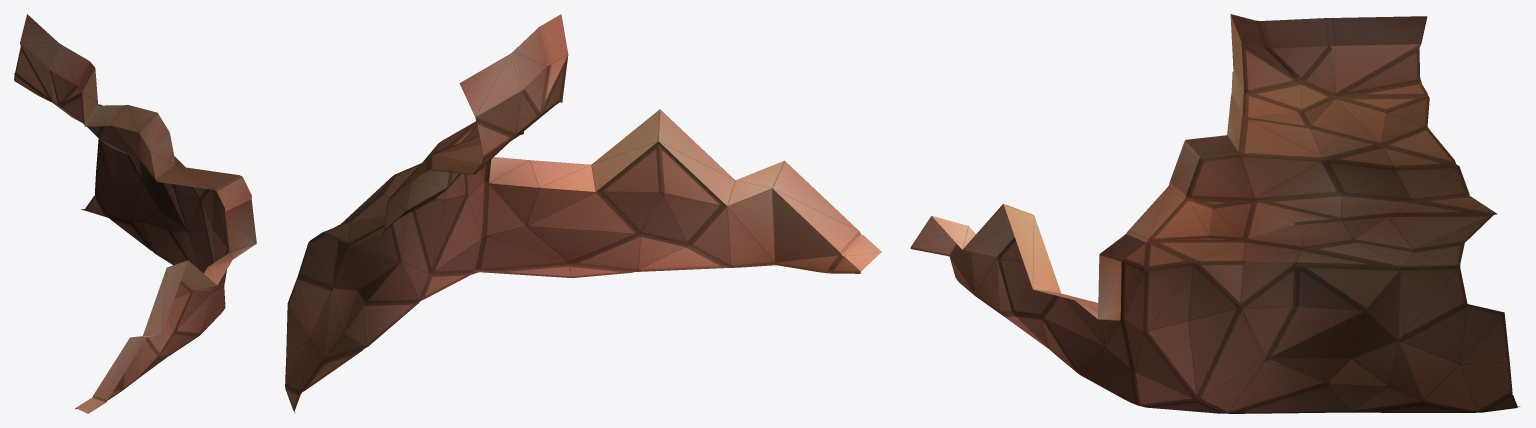
The model's file is structure_wall003.glb.
3 views of the same model, side by side, from view 1: azimuth 30°, elevation 25°; view 2: azimuth 150°, elevation 25°; view 3: azimuth 270°, elevation 25° (orthographic). The views are drawn at different scales.
Visible parts, largest first — view 1: roomwall.003; view 2: roomwall.003; view 3: roomwall.003.
Boxes of the visible parts, x1=… form: roomwall.003: x1=14, y1=14, x2=256, y2=413; roomwall.003: x1=285, y1=14, x2=881, y2=413; roomwall.003: x1=910, y1=14, x2=1520, y2=413.
Bounding box in the file's own units: 6.84 × 6.77 × 11.21.
1 material, 1 textured.
